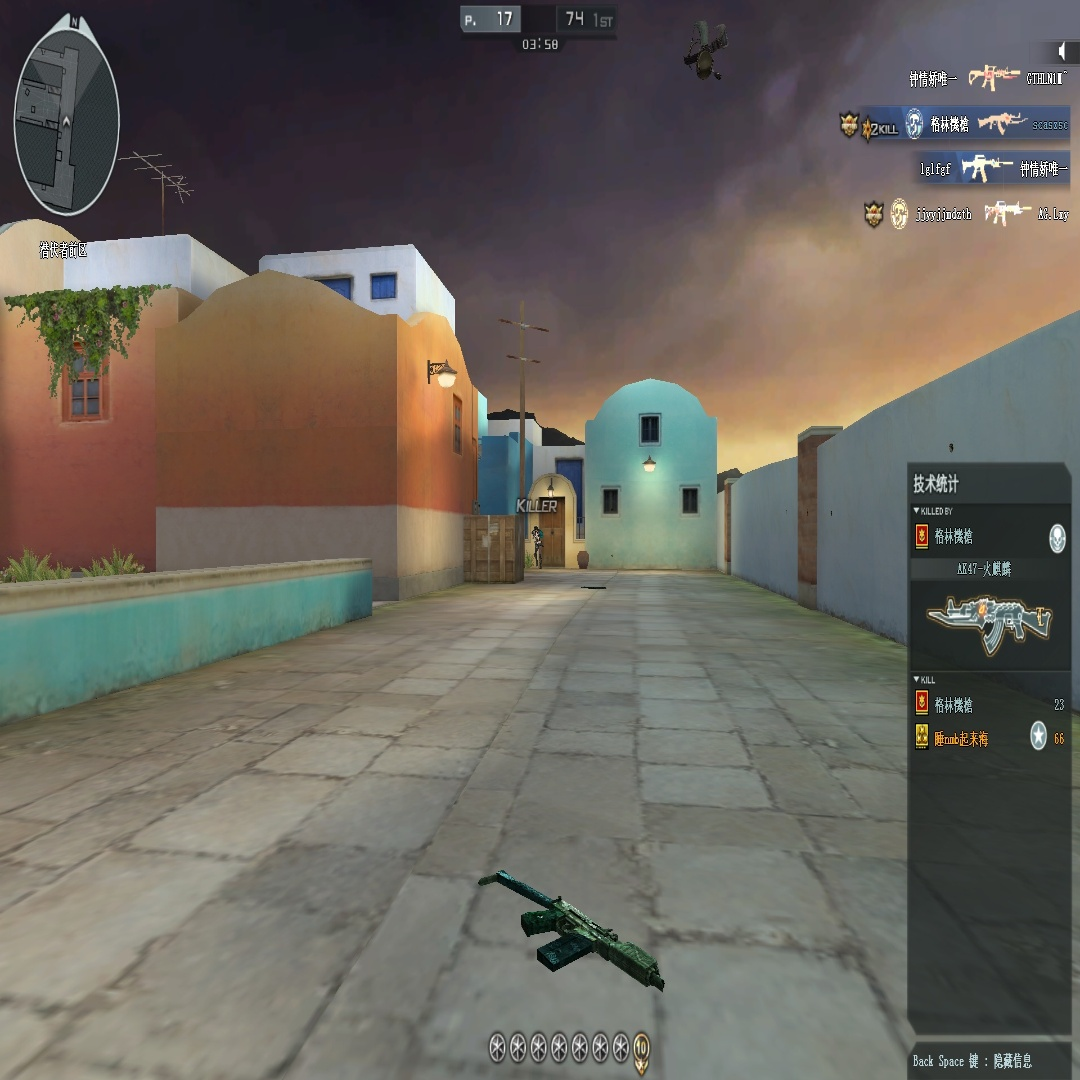p: (532, 522, 544, 570)
